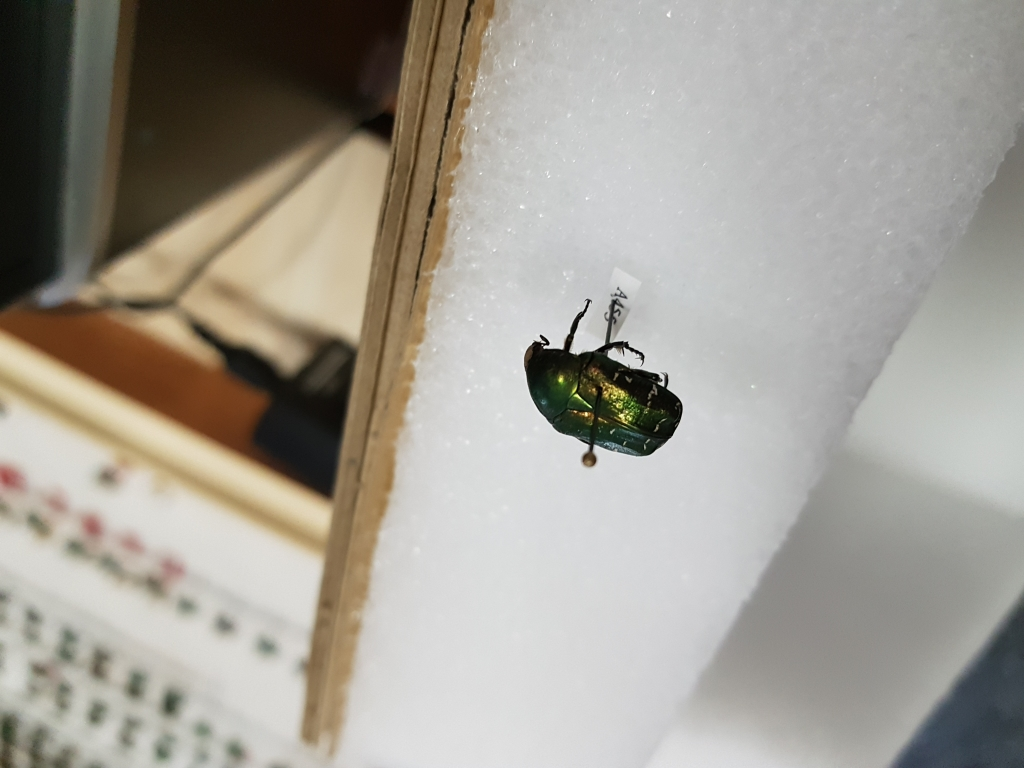Cetonia_kemali: (506, 285, 682, 458)
